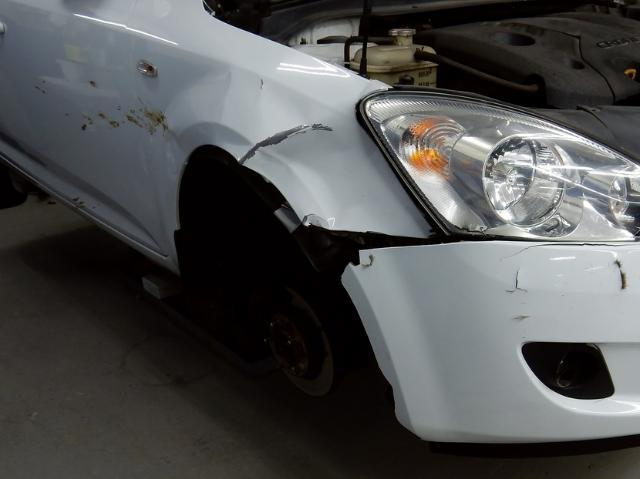Bumper: (325, 240, 640, 451)
Door: (29, 19, 171, 197)
Fender: (180, 35, 401, 233)
